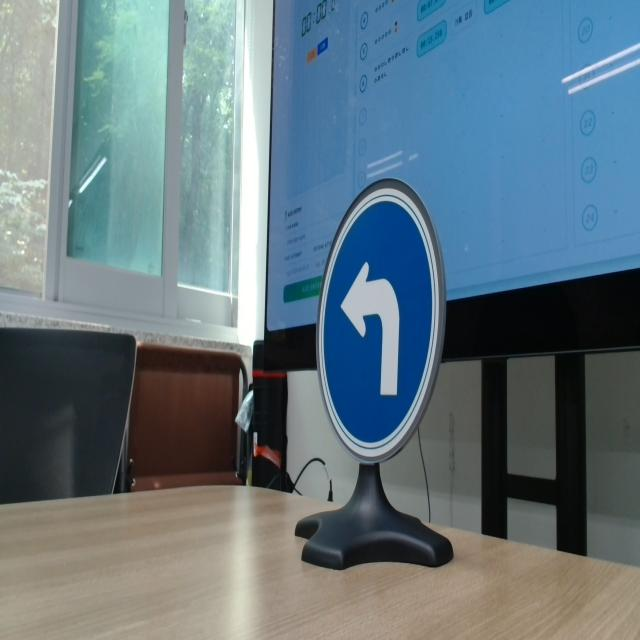left_direction: (315, 176, 445, 458)
